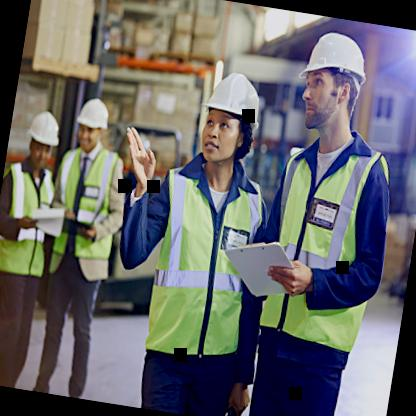helmet: (288, 15, 378, 136), (183, 56, 268, 176), (17, 104, 66, 175), (70, 92, 116, 157)
